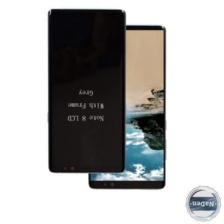phone: (83, 22, 169, 192), (44, 7, 127, 177)
